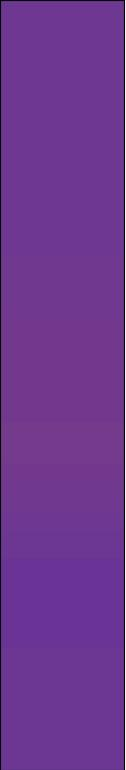safe: (11, 3, 109, 759)
